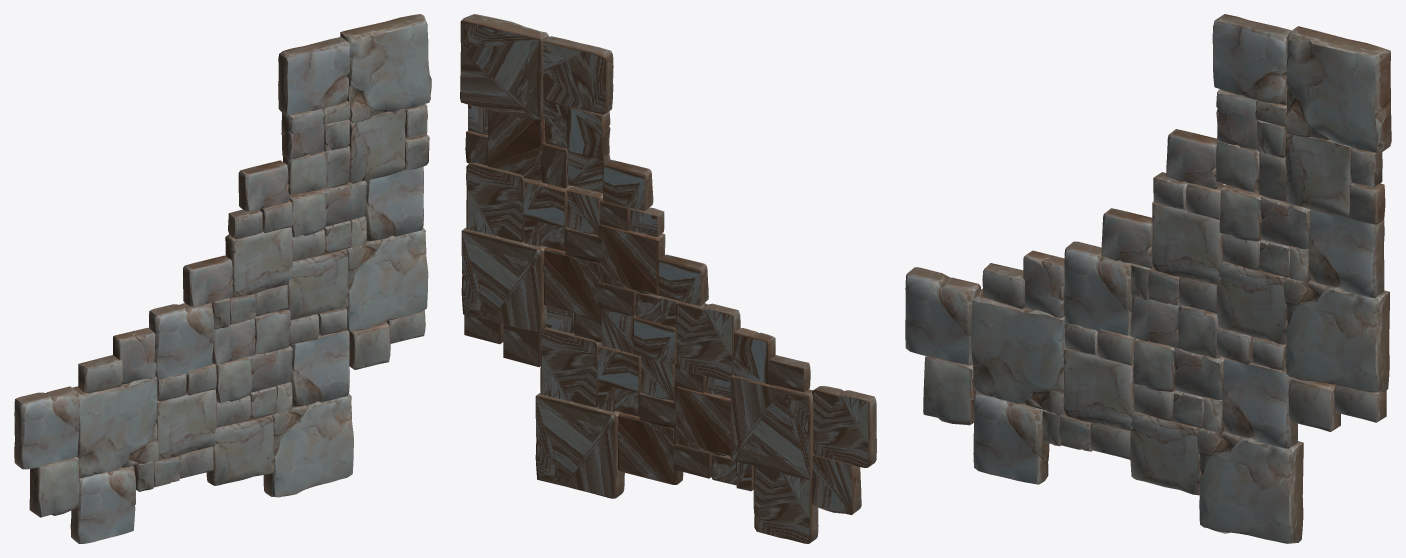
File: Dn_HLLvl2_FloorTiles_A.fbx
The picture shows the model from 3 angles, left to right: view 1: azimuth 30°, elevation 25°; view 2: azimuth 150°, elevation 25°; view 3: azimuth 330°, elevation 25°; orthographic projection. The views are drawn at different scales.
Parts seen in each view (by area): view 1: Dn_HLLvl2_FloorTiles_A; view 2: Dn_HLLvl2_FloorTiles_A; view 3: Dn_HLLvl2_FloorTiles_A.
Part boxes in pixels (<box>): Dn_HLLvl2_FloorTiles_A: <box>14,14,431,543</box>; Dn_HLLvl2_FloorTiles_A: <box>460,14,876,543</box>; Dn_HLLvl2_FloorTiles_A: <box>905,14,1391,543</box>.
Bounding box in the file's own units: 2207 × 2280 × 123.
Materials: 2 (2 with a texture image).
